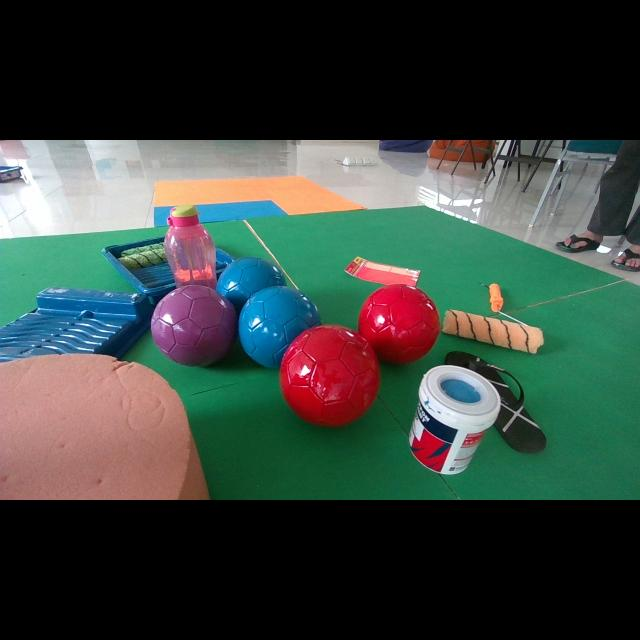B: (239, 286, 321, 368), (216, 258, 286, 312)
P: (151, 285, 238, 366)
R: (280, 325, 380, 426), (359, 285, 440, 364)
